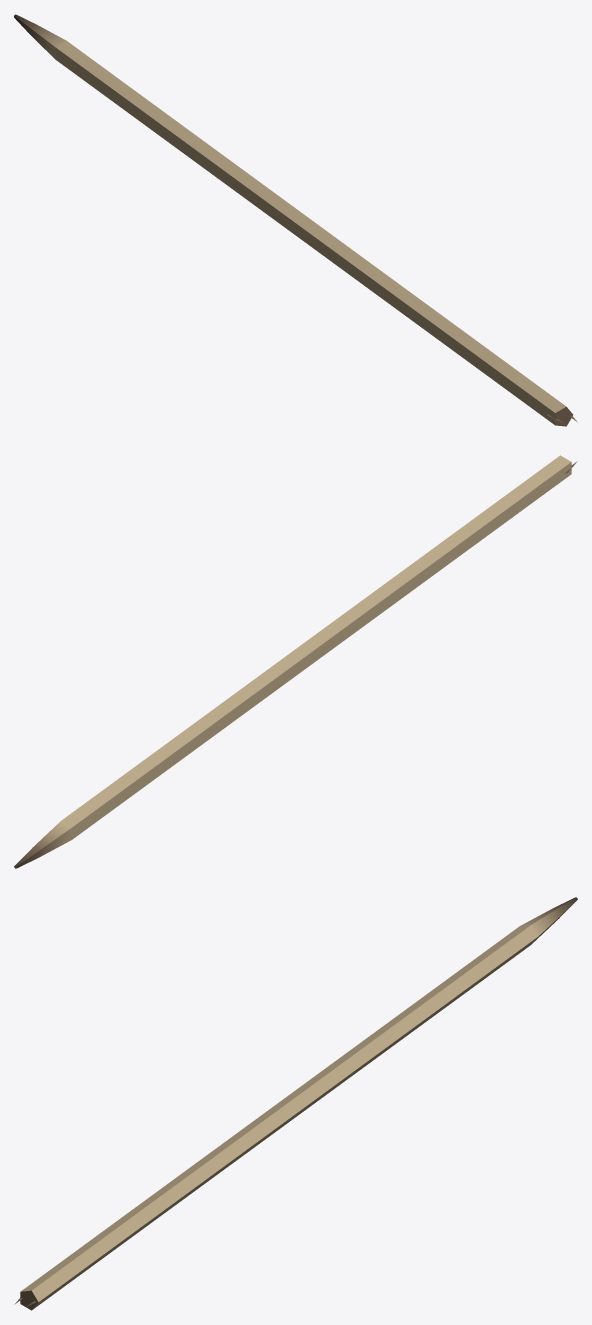
The model's file is arrow_wood_a.glb.
The picture shows the model from 3 angles, top to bottom: view 1: azimuth 30°, elevation 25°; view 2: azimuth 150°, elevation 25°; view 3: azimuth 330°, elevation 25°; orthographic projection.
Visible parts, largest first — view 1: arrow_wood_a; view 2: arrow_wood_a; view 3: arrow_wood_a.
Part boxes in pixels (left/top/right/bottom): arrow_wood_a: left=14, top=14, right=577, bottom=426; arrow_wood_a: left=14, top=455, right=577, bottom=868; arrow_wood_a: left=14, top=897, right=577, bottom=1310.
Size of the model in its own units: 0.0189 by 0.0171 by 0.864.
